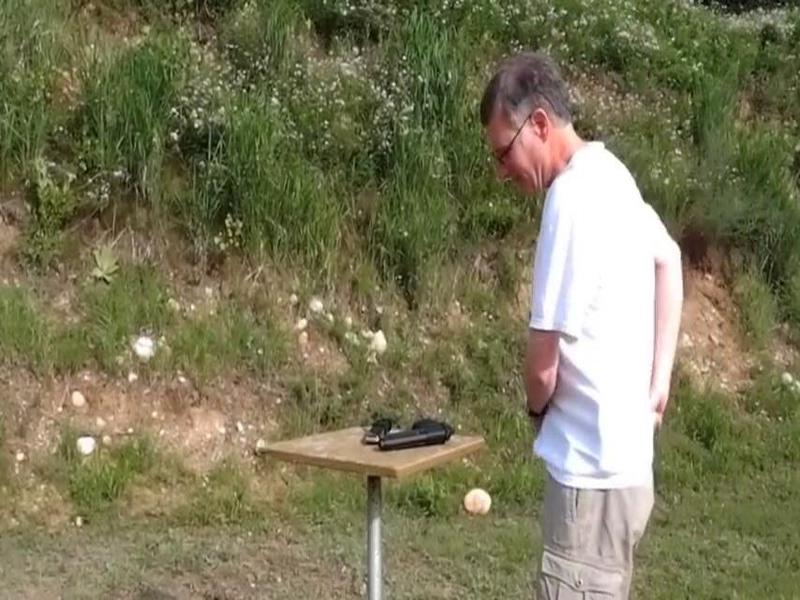Pistola: (377, 405, 457, 466)
